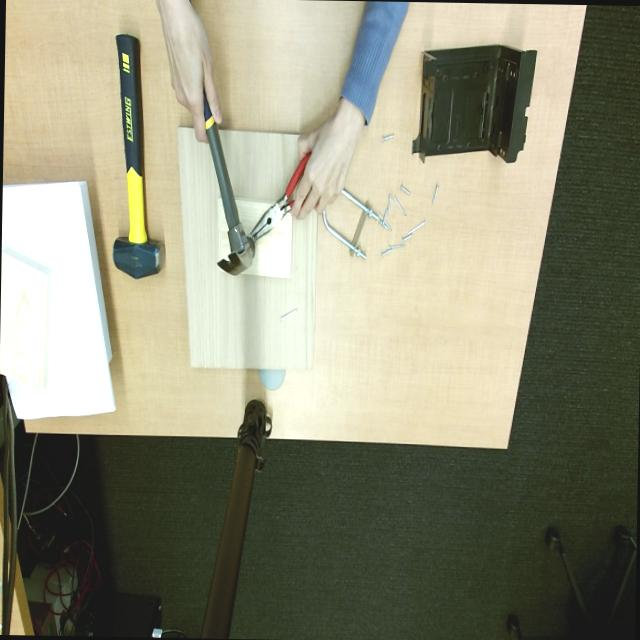hammer: (203, 91, 253, 274), (116, 34, 143, 177)
pliers: (248, 151, 310, 241)
